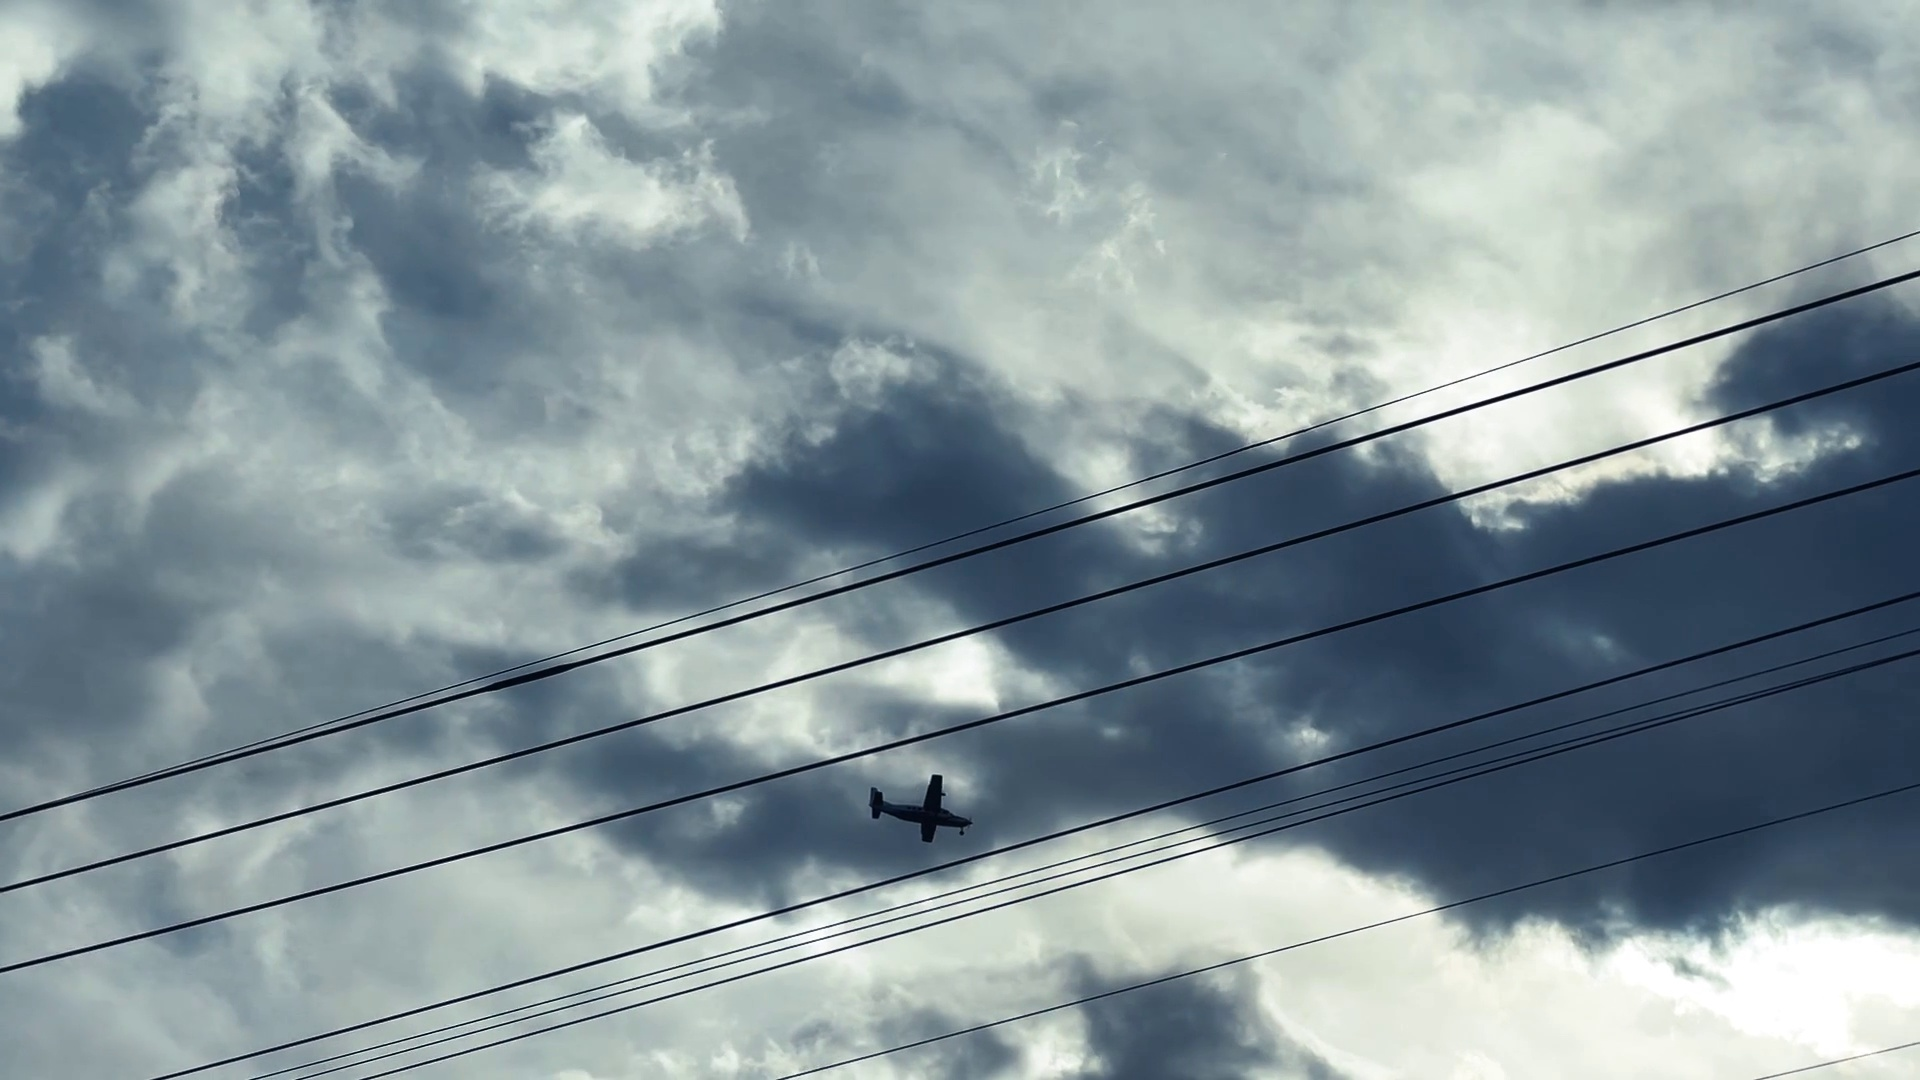plane: (865, 774, 975, 841)
